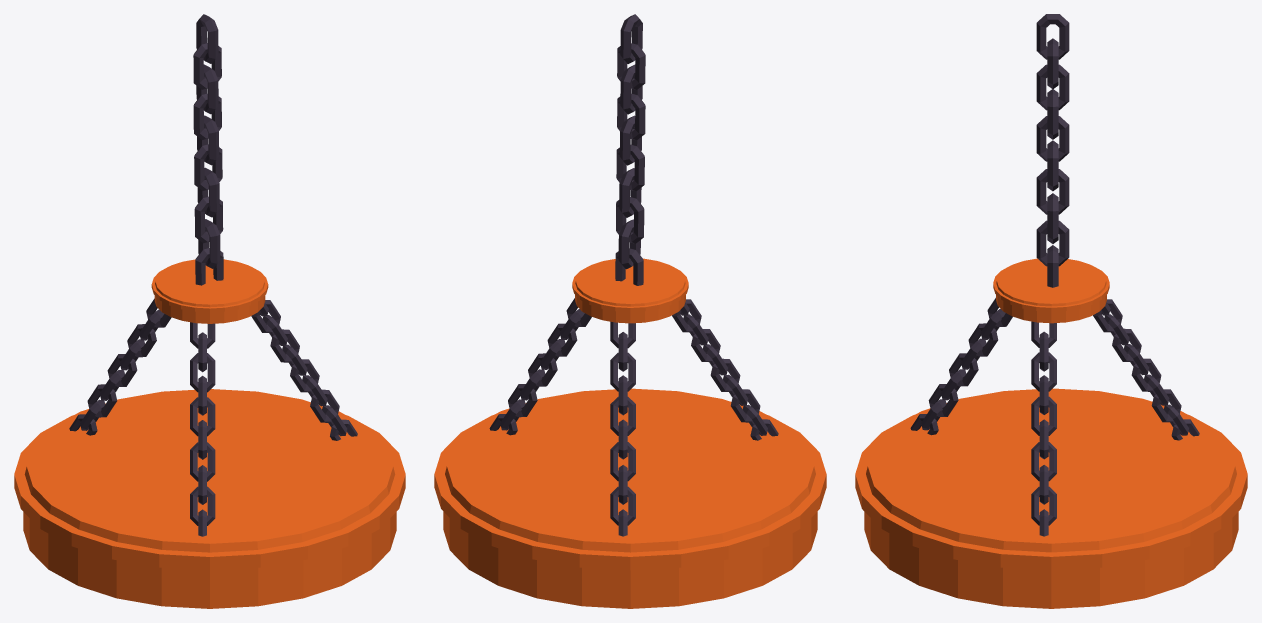
Rendered from ScrapMagnet.fbx.
3 views of the same model, side by side, from view 1: azimuth 30°, elevation 25°; view 2: azimuth 150°, elevation 25°; view 3: azimuth 270°, elevation 25° (orthographic).
Visible parts, largest first — view 1: Cylinder, Torus.003, Cylinder.001, Torus.001, Torus.010, Torus.002; view 2: Cylinder, Torus.003, Cylinder.001, Torus.002, Torus.001, Torus.010; view 3: Cylinder, Torus.003, Cylinder.001, Torus.010, Torus.002, Torus.001.
Boxes of the visible parts, box(x1,y1,x2,y2) form: Cylinder: box(14, 389, 405, 608); Torus.003: box(193, 14, 223, 285); Cylinder.001: box(151, 259, 268, 323); Torus.001: box(190, 322, 215, 536); Torus.010: box(251, 300, 357, 440); Torus.002: box(69, 298, 171, 435); Cylinder: box(434, 388, 826, 608); Torus.003: box(615, 14, 645, 285); Cylinder.001: box(572, 258, 688, 323); Torus.002: box(610, 321, 635, 536); Torus.001: box(672, 299, 778, 440); Torus.010: box(489, 298, 591, 435); Cylinder: box(855, 388, 1247, 608); Torus.003: box(1036, 14, 1069, 287); Cylinder.001: box(993, 258, 1109, 323); Torus.010: box(1031, 321, 1056, 536); Torus.002: box(1093, 299, 1199, 440); Torus.001: box(910, 298, 1012, 435).
Size of the model in its own units: 419 by 607 by 419.
